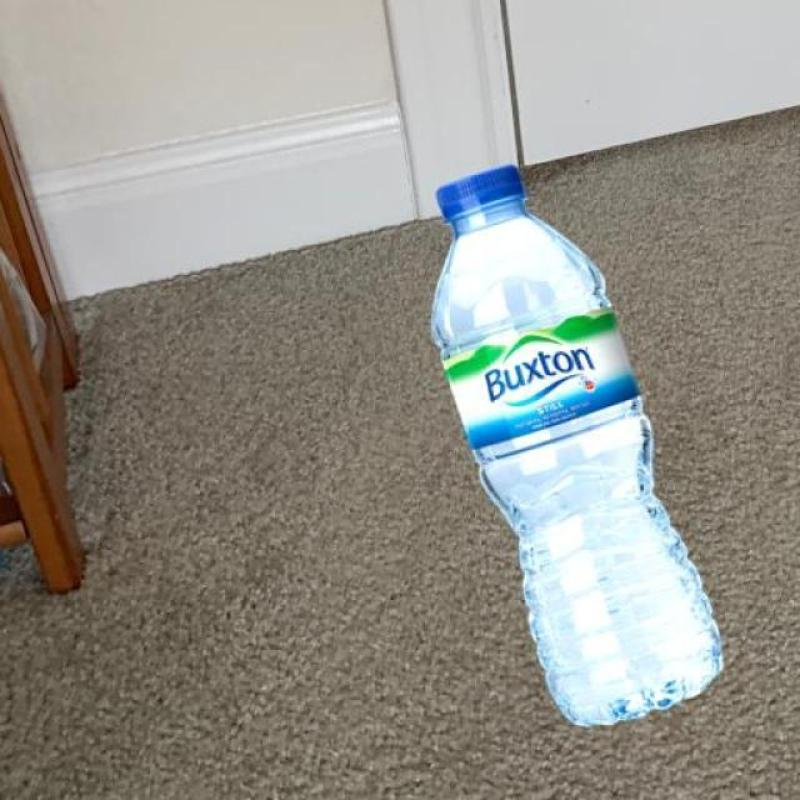botella: (428, 164, 724, 726)
